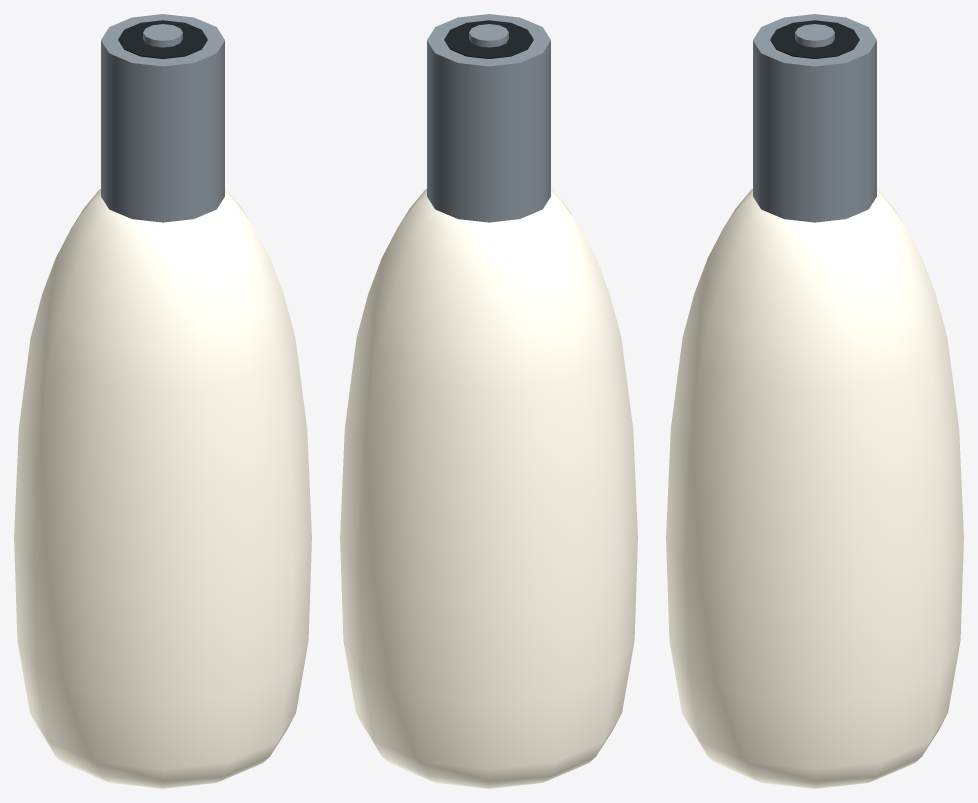
The model's file is source.glb.
3 renders of one model, left to right at view 1: azimuth 30°, elevation 25°; view 2: azimuth 150°, elevation 25°; view 3: azimuth 270°, elevation 25°, orthographic.
Parts seen in each view (by area): view 1: Emitters, 机加工金属, 密封及绝缘件; view 2: Emitters, 机加工金属, 密封及绝缘件; view 3: Emitters, 机加工金属, 密封及绝缘件.
Boxes of the visible parts, left/top/right/bottom form: Emitters: left=14, top=189, right=311, bottom=788; 机加工金属: left=101, top=14, right=224, bottom=222; 密封及绝缘件: left=118, top=20, right=207, bottom=58; Emitters: left=340, top=189, right=637, bottom=788; 机加工金属: left=427, top=14, right=550, bottom=222; 密封及绝缘件: left=444, top=20, right=533, bottom=58; Emitters: left=666, top=189, right=963, bottom=788; 机加工金属: left=753, top=14, right=876, bottom=222; 密封及绝缘件: left=770, top=20, right=859, bottom=58.
Size of the model in its own units: 0.0438 by 0.1168 by 0.0438.
